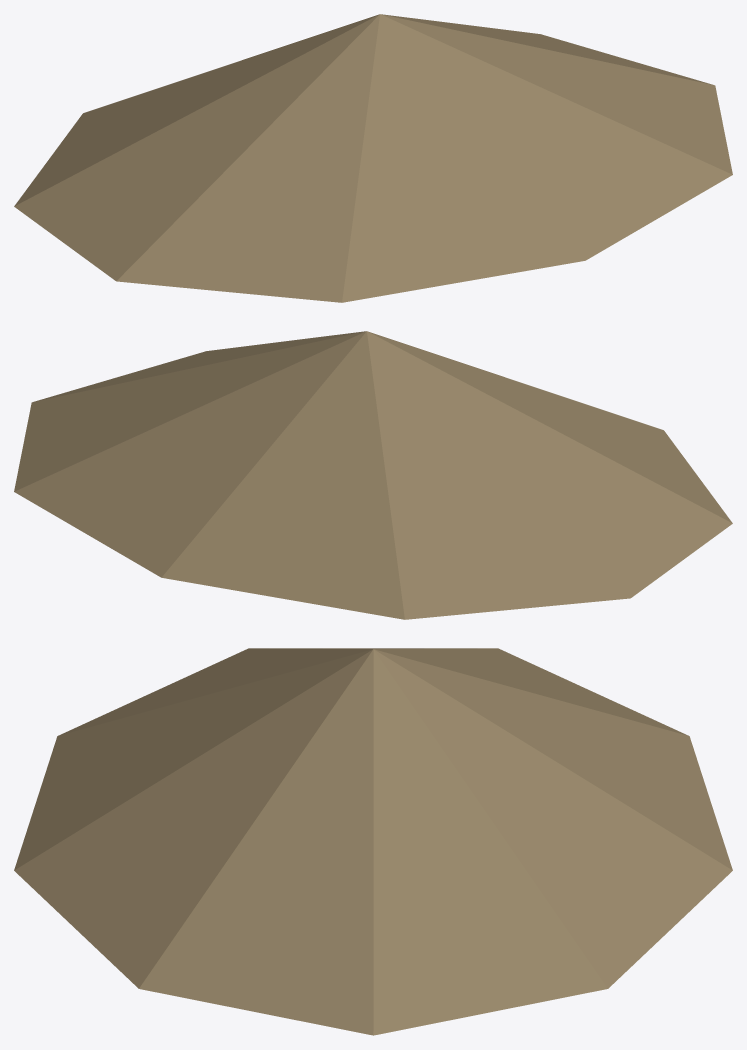
Rendered from Equip_DirtMound.fbx.
The picture shows the model from 3 angles, top to bottom: view 1: azimuth 30°, elevation 25°; view 2: azimuth 150°, elevation 25°; view 3: azimuth 270°, elevation 25°; orthographic projection. The views are drawn at different scales.
Parts seen in each view (by area): view 1: Equip_DirtMound; view 2: Equip_DirtMound; view 3: Equip_DirtMound.
Boxes of the visible parts, x1,y1,x2,y2 form: Equip_DirtMound: (14,14,732,302); Equip_DirtMound: (14,331,732,619); Equip_DirtMound: (14,648,732,1035).
Bounding box in the file's own units: 2.13 × 0.48 × 1.67.
